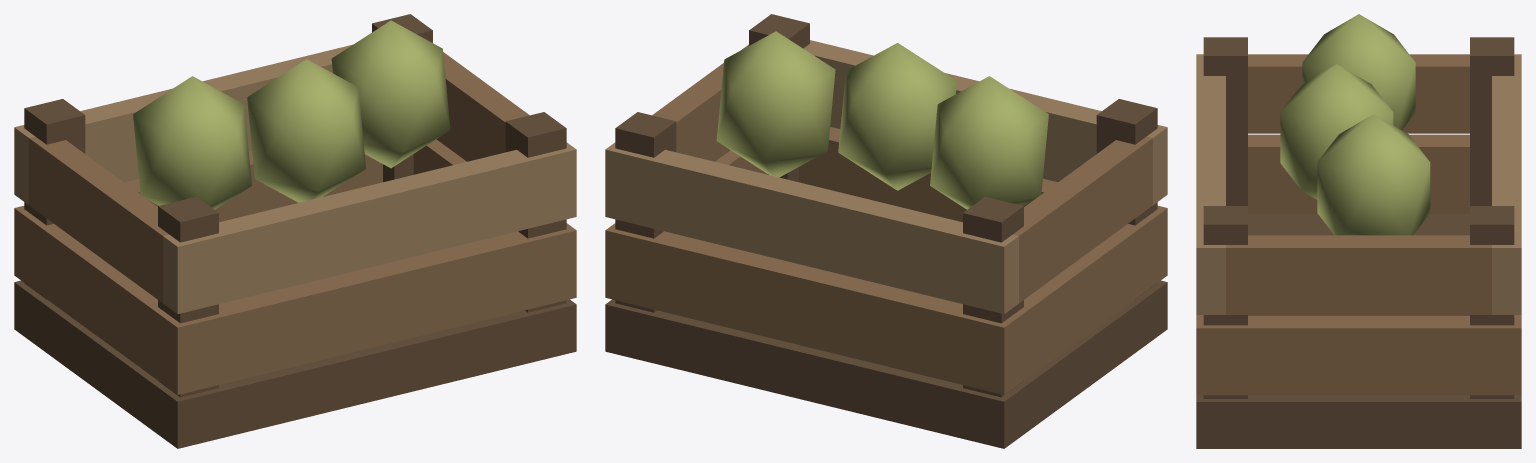
The model's file is produce_crate.glb.
3 renders of one model, left to right at view 1: azimuth 30°, elevation 25°; view 2: azimuth 150°, elevation 25°; view 3: azimuth 270°, elevation 25°, orthographic.
Visible parts, largest first — view 1: produce_crate; view 2: produce_crate; view 3: produce_crate.
Part boxes in pixels (x1=…): produce_crate: x1=14, y1=14, x2=576, y2=448; produce_crate: x1=605, y1=14, x2=1167, y2=448; produce_crate: x1=1196, y1=14, x2=1521, y2=448.
Size of the model in its own units: 0.62 by 0.43 by 0.44.
